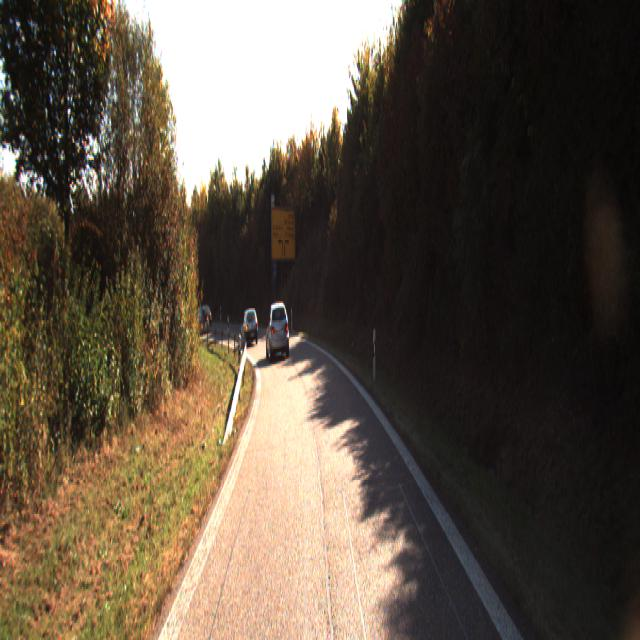Car: (265, 298, 289, 357), (240, 308, 259, 346), (194, 302, 212, 329)
